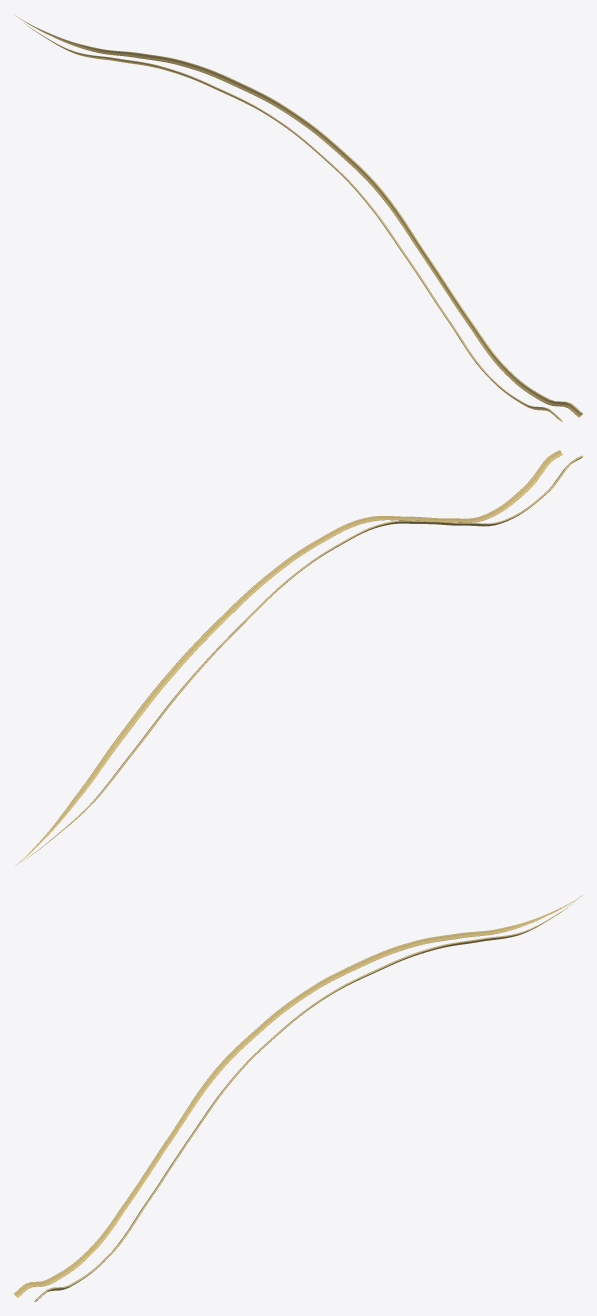
3 views of the same model, one above another, from view 1: azimuth 30°, elevation 25°; view 2: azimuth 150°, elevation 25°; view 3: azimuth 330°, elevation 25° (orthographic).
Visible parts, largest first — view 1: 脊髓丘脑侧束; view 2: 脊髓丘脑侧束; view 3: 脊髓丘脑侧束.
Part boxes in pixels (x1,y1,x2,y2): 脊髓丘脑侧束: (16,16,582,421); 脊髓丘脑侧束: (15,450,582,865); 脊髓丘脑侧束: (14,895,582,1301).
Bounding box in the file's own units: 0.018 × 0.0768 × 0.7211.
